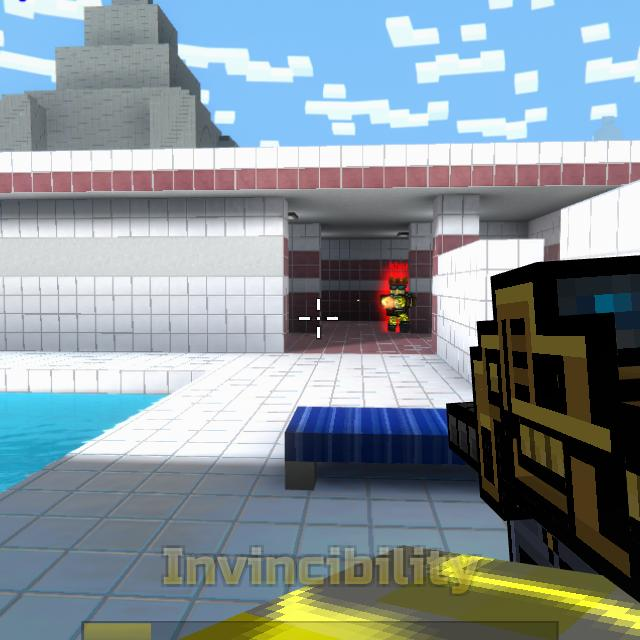Enemy: (380, 279, 410, 334)
